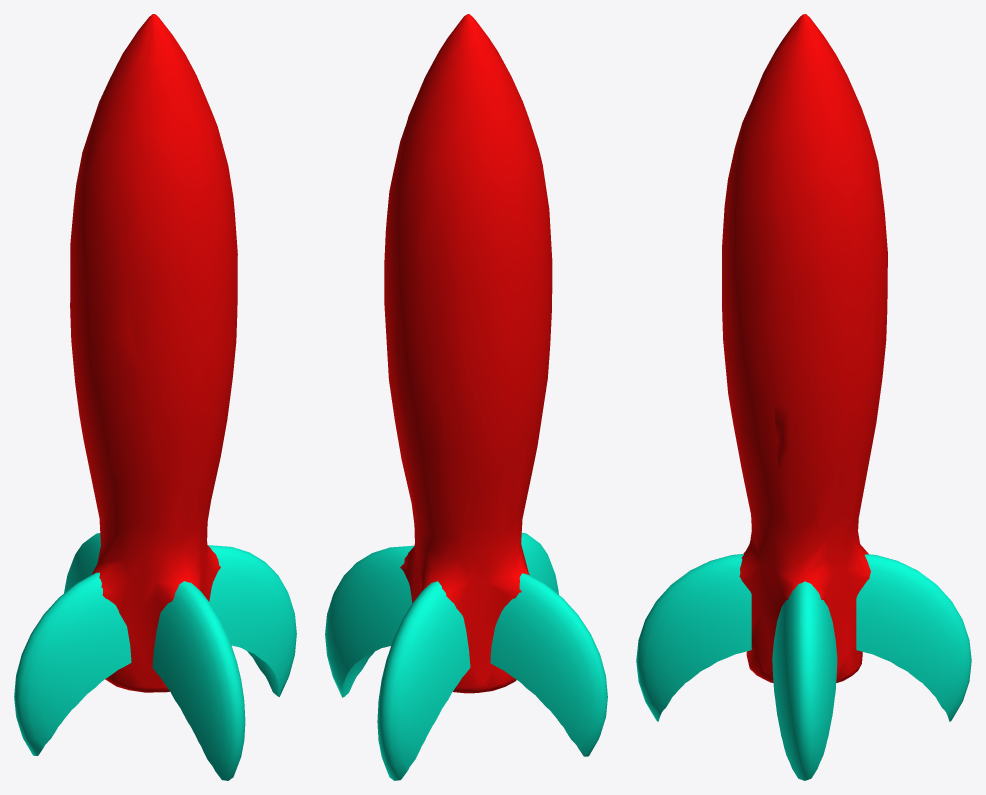
The model's file is HomingRocket.FBX.
The picture shows the model from 3 angles, left to right: view 1: azimuth 30°, elevation 25°; view 2: azimuth 150°, elevation 25°; view 3: azimuth 270°, elevation 25°; orthographic projection.
Visible parts, largest first — view 1: 11501_RocketShip_v2, Sphere001, Sphere003, Sphere002, Sphere004; view 2: 11501_RocketShip_v2, Sphere001, Sphere004, Sphere002, Sphere003; view 3: 11501_RocketShip_v2, Sphere003, Sphere004, Sphere002.
Boxes of the visible parts, <box> form: 11501_RocketShip_v2: <box>70,14,237,692</box>; Sphere001: <box>14,572,131,755</box>; Sphere003: <box>152,581,245,780</box>; Sphere002: <box>208,545,296,696</box>; Sphere004: <box>64,533,100,593</box>; 11501_RocketShip_v2: <box>384,14,552,693</box>; Sphere001: <box>490,573,607,756</box>; Sphere004: <box>377,581,470,780</box>; Sphere002: <box>325,545,414,697</box>; Sphere003: <box>521,532,558,594</box>; 11501_RocketShip_v2: <box>722,14,887,682</box>; Sphere003: <box>636,554,751,721</box>; Sphere004: <box>856,554,971,721</box>; Sphere002: <box>772,581,837,780</box>.
Size of the model in its own units: 26.49 by 64.36 by 27.68.
